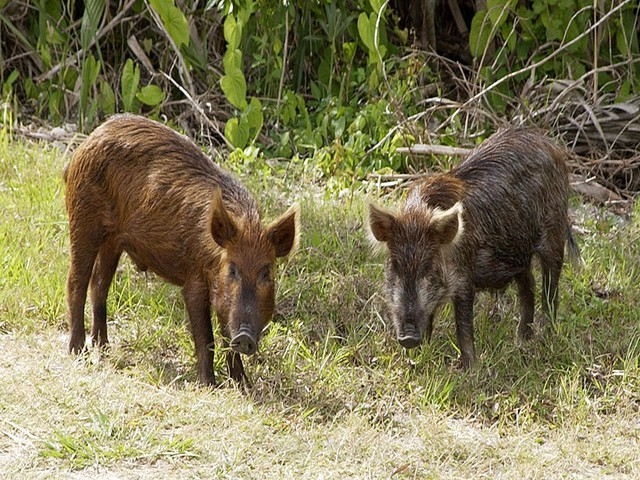Pig: (61, 105, 312, 387), (366, 123, 593, 354)
